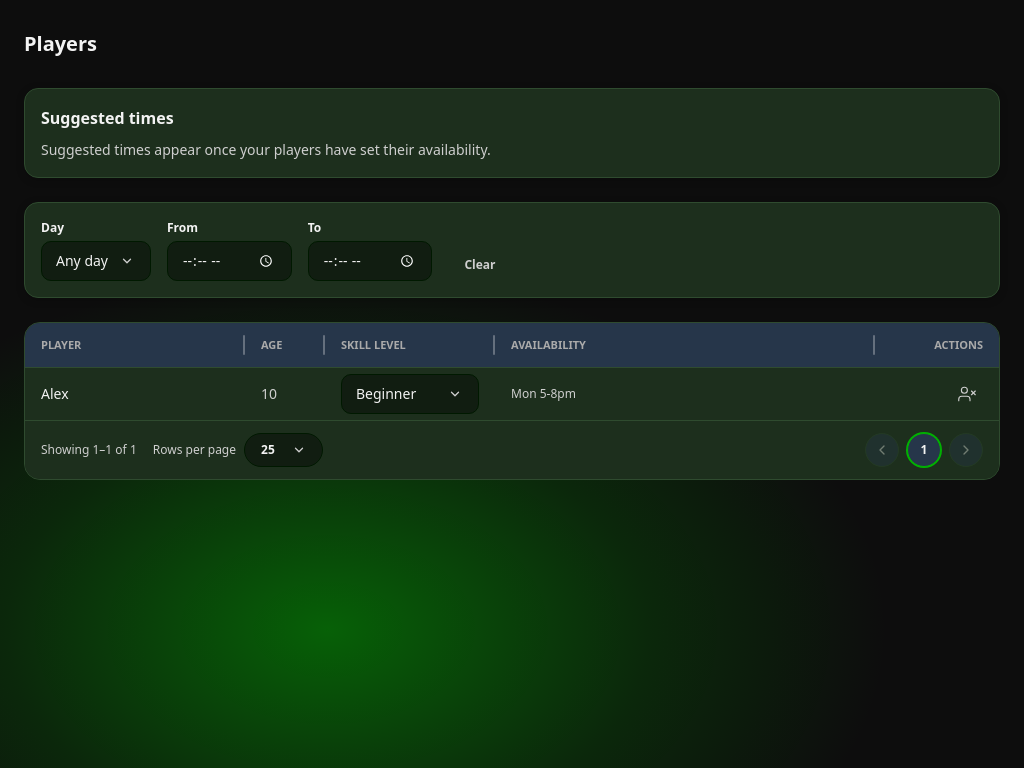
Test: PlayersPage (trainer) › sets the skill level of a player from the roster (PATCH .../skill-level) and refreshes
Select "Elite" in the dropdown named "Skill level for Alex" at (410, 394), box 341,374 -> 479,414
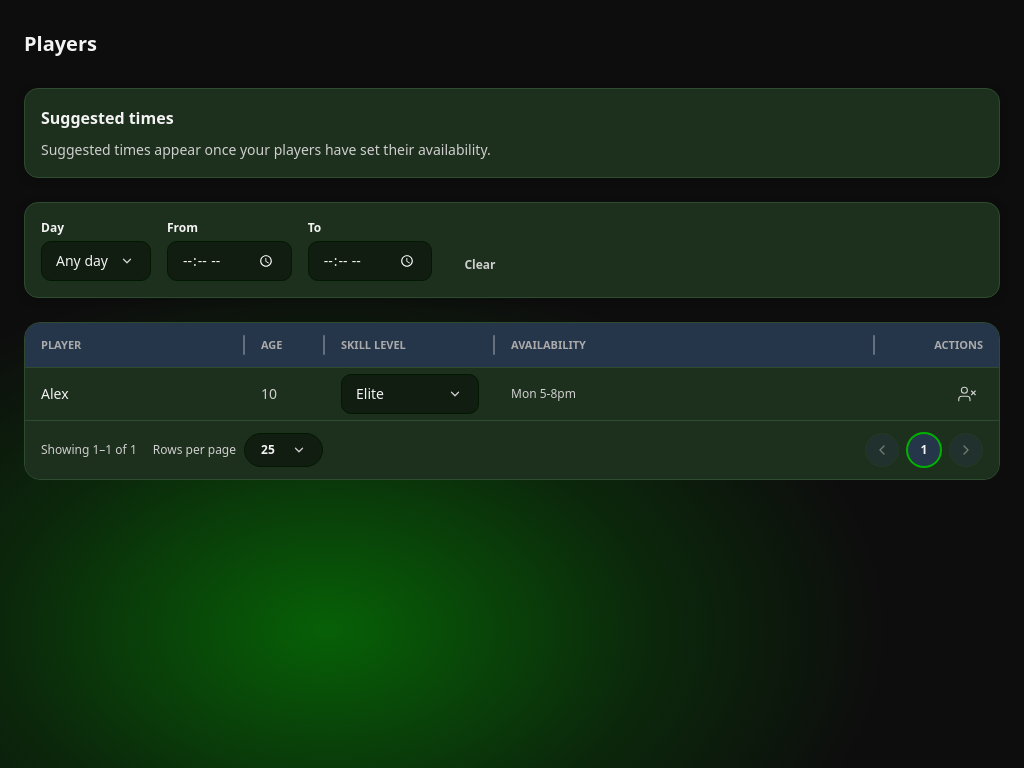
expect the dropdown named "Skill level for Alex" shows "Elite": met, box 341,374 -> 479,414
